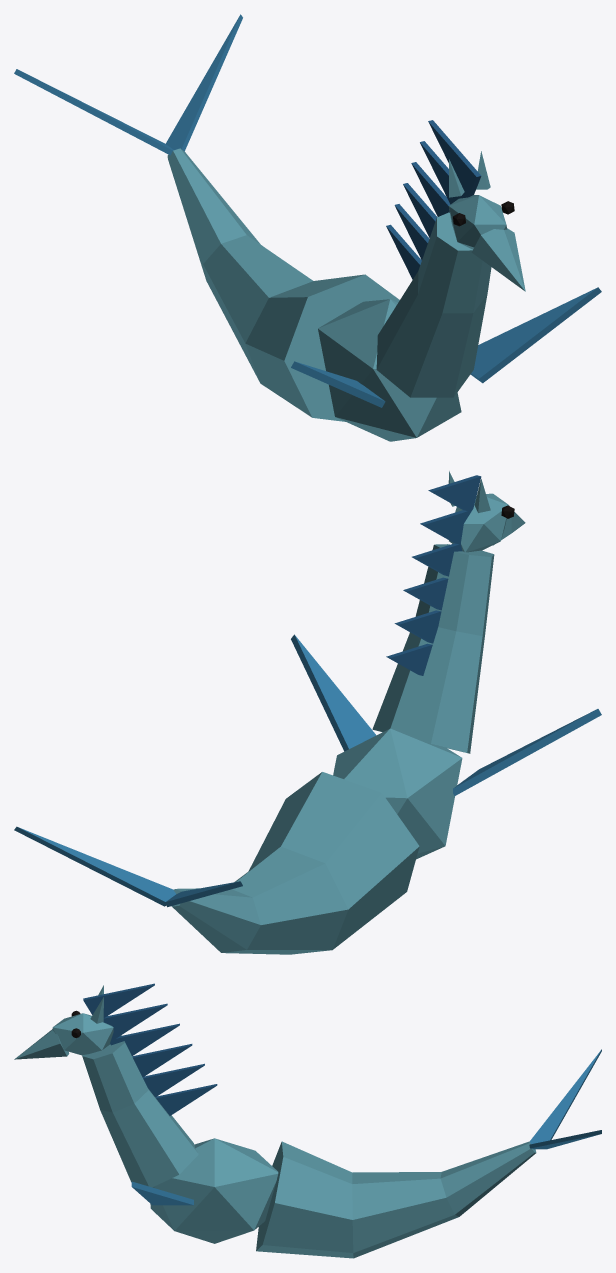
Rendered from animal_hippocampus.glb.
The picture shows the model from 3 angles, top to bottom: view 1: azimuth 30°, elevation 25°; view 2: azimuth 150°, elevation 25°; view 3: azimuth 270°, elevation 25°; orthographic projection. The views are drawn at different scales.
Parts seen in each view (by area): view 1: animal_hippocampus; view 2: animal_hippocampus; view 3: animal_hippocampus.
Boxes of the visible parts, box(x1,y1,x2,y2) form: animal_hippocampus: box(14, 14, 601, 441); animal_hippocampus: box(14, 471, 601, 954); animal_hippocampus: box(14, 983, 601, 1258).
Bounding box in the file's own units: 1.92 × 2.17 × 4.25.
